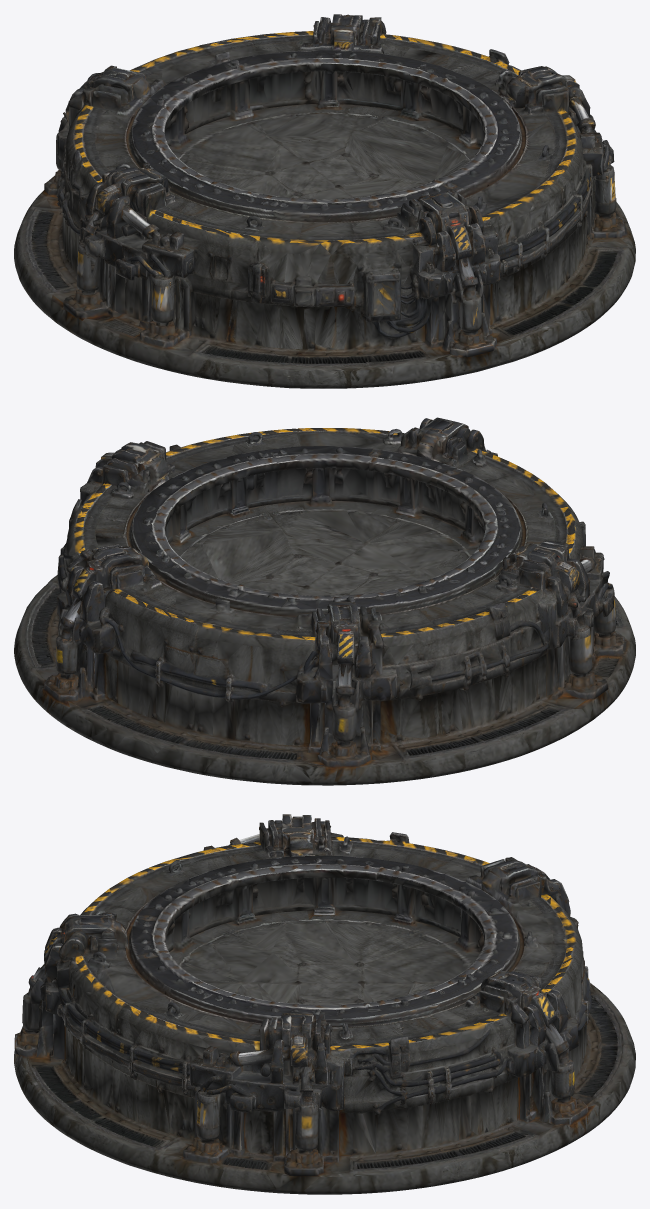
The model's file is SM_A07K_MountRing.fbx.
The picture shows the model from 3 angles, top to bottom: view 1: azimuth 30°, elevation 25°; view 2: azimuth 150°, elevation 25°; view 3: azimuth 270°, elevation 25°; orthographic projection.
Visible parts, largest first — view 1: SM_A07K_MountRing; view 2: SM_A07K_MountRing; view 3: SM_A07K_MountRing.
Boxes of the visible parts, box(x1,y1,x2,y2) form: SM_A07K_MountRing: box(14, 14, 635, 388); SM_A07K_MountRing: box(14, 417, 635, 785); SM_A07K_MountRing: box(14, 814, 635, 1194).
Size of the model in its own units: 500 by 129 by 500.
